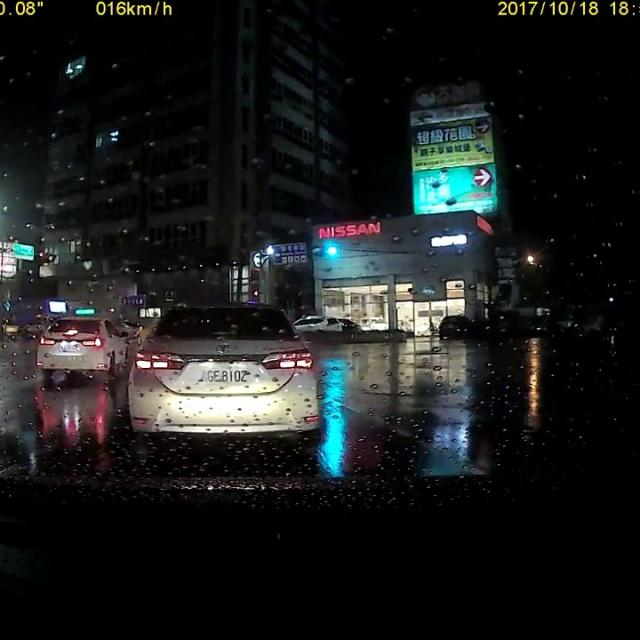Car: (127, 301, 323, 444), (44, 314, 135, 376), (294, 309, 342, 335), (437, 313, 470, 339), (357, 314, 389, 331)
